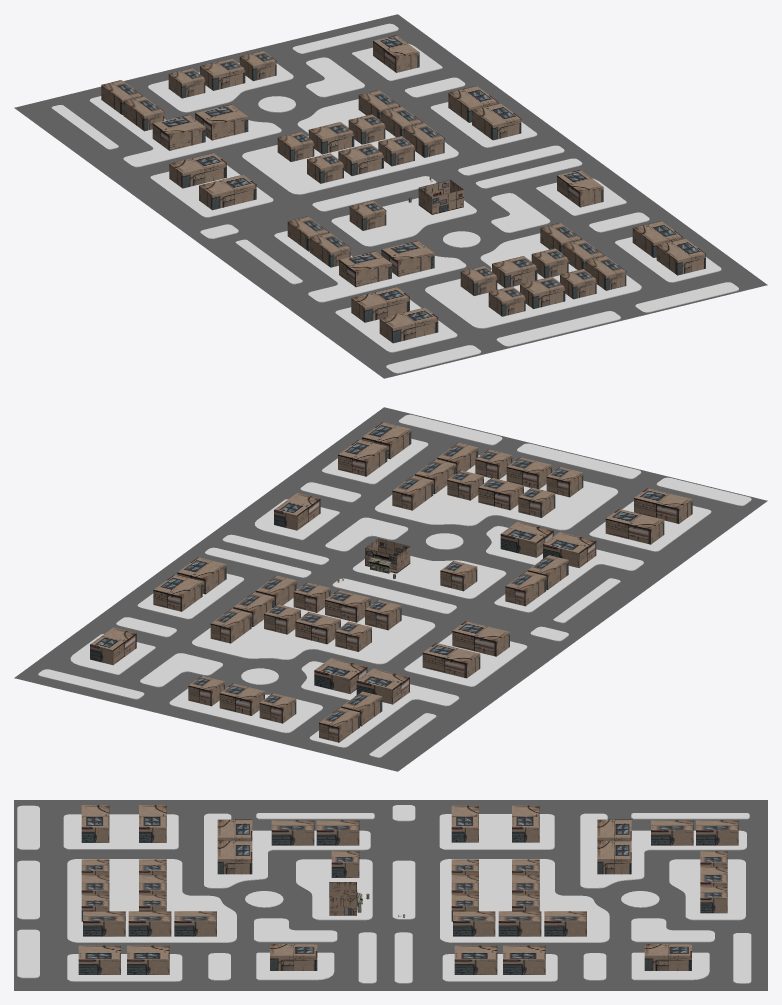
The model's file is boop.fbx.
3 renders of one model, top to bottom at view 1: azimuth 30°, elevation 25°; view 2: azimuth 150°, elevation 25°; view 3: azimuth 270°, elevation 25°, orthographic.
Visible parts, largest first — view 1: streetPlane, layout1, pCube70, pCube69, pCube67, pCube68, pCube64, pCube37, pCube60, pCube57, pCube63, pCube38 (+31 smaller); view 2: streetPlane, layout1, pCube69, pCube67, pCube70, pCube68, pCube59, pCube58, pCube63, pCube38, pCube37, pCube64 (+31 smaller); view 3: streetPlane, layout1, pCube57, pCube62, pCube61, pCube59, pCube58, pCube60, pCube38, pCube63, pCube36, pCube35 (+31 smaller).
Boxes of the visible parts, x1,y1,x2,y2 form: streetPlane: [14, 14, 767, 378]; layout1: [51, 23, 738, 373]; pCube70: [379, 307, 438, 343]; pCube69: [351, 287, 409, 322]; pCube67: [169, 153, 226, 188]; pCube68: [199, 174, 256, 210]; pCube64: [152, 114, 205, 150]; pCube37: [339, 251, 391, 287]; pCube60: [656, 238, 705, 275]; pCube57: [472, 103, 521, 140]; pCube63: [195, 104, 248, 140]; pCube38: [381, 241, 434, 276]; streetPlane: [14, 407, 767, 771]; layout1: [38, 414, 751, 757]; pCube69: [605, 509, 664, 544]; pCube67: [422, 643, 480, 678]; pCube70: [634, 488, 692, 523]; pCube68: [452, 621, 509, 656]; pCube59: [338, 439, 387, 476]; pCube58: [153, 574, 202, 611]; pCube63: [314, 658, 367, 694]; pCube38: [500, 521, 553, 557]; pCube37: [543, 532, 596, 567]; pCube64: [356, 668, 409, 704]; streetPlane: [14, 800, 767, 990]; layout1: [17, 805, 751, 983]; pCube57: [454, 945, 497, 974]; pCube62: [644, 944, 691, 970]; pCube61: [270, 944, 317, 970]; pCube59: [127, 945, 169, 974]; pCube58: [503, 945, 545, 974]; pCube60: [78, 945, 120, 974]; pCube38: [217, 841, 252, 874]; pCube63: [597, 841, 631, 874]; pCube36: [271, 820, 314, 845]; pCube35: [316, 820, 359, 845].
Size of the model in its own units: 5206 by 264 by 8695.
